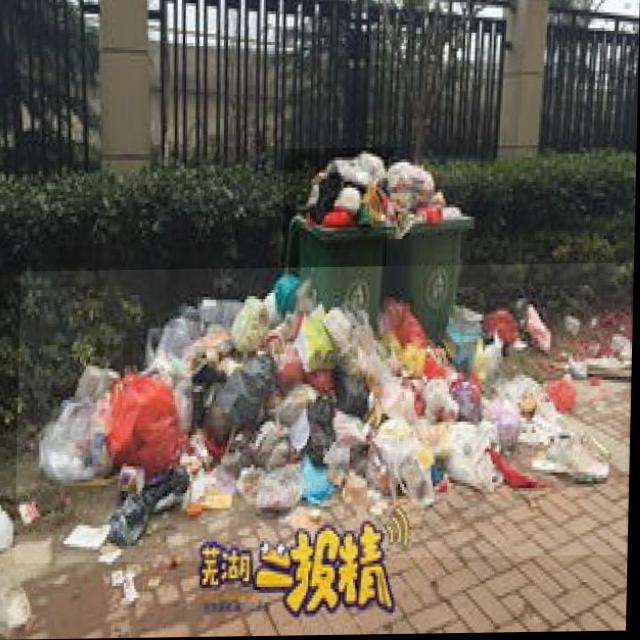garbage: (17, 265, 633, 563)
overflow: (282, 149, 394, 325), (386, 156, 474, 344)
